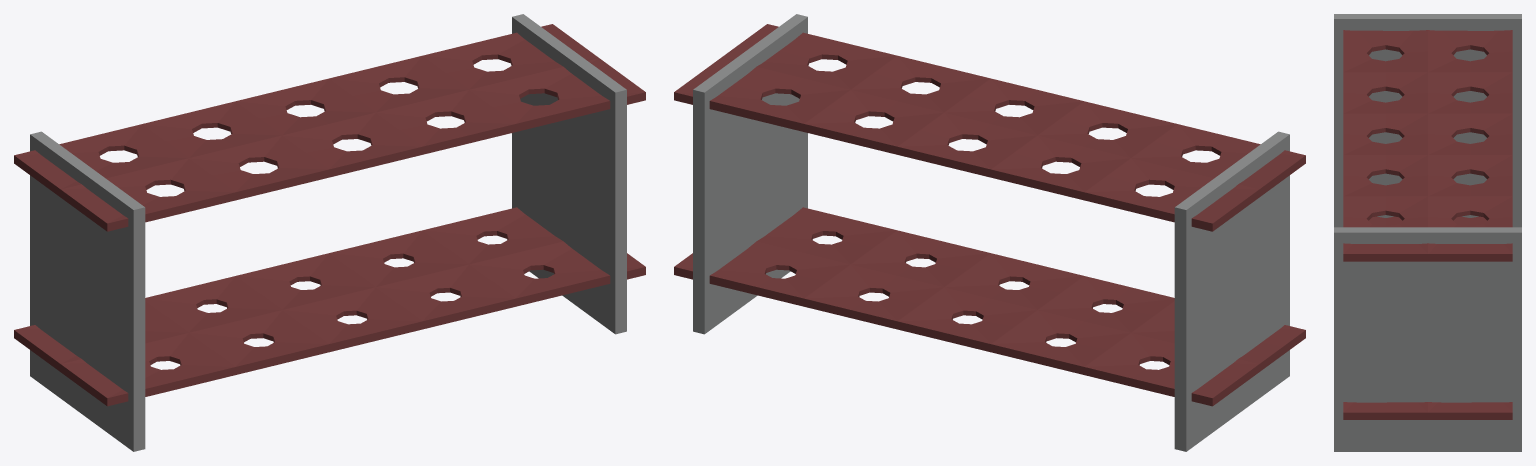
Rendered from Prop_Test_Tube_Storage.fbx.
3 views of the same model, side by side, from view 1: azimuth 30°, elevation 25°; view 2: azimuth 150°, elevation 25°; view 3: azimuth 270°, elevation 25° (orthographic). The views are drawn at different scales.
Visible parts, largest first — view 1: Cube.015; view 2: Cube.015; view 3: Cube.015.
Boxes of the visible parts, box(x1,y1,x2,y2) form: Cube.015: box(14, 14, 645, 451); Cube.015: box(674, 14, 1305, 451); Cube.015: box(1334, 14, 1521, 451).
Bounding box in the file's own units: 53.82 × 23.09 × 17.92.
